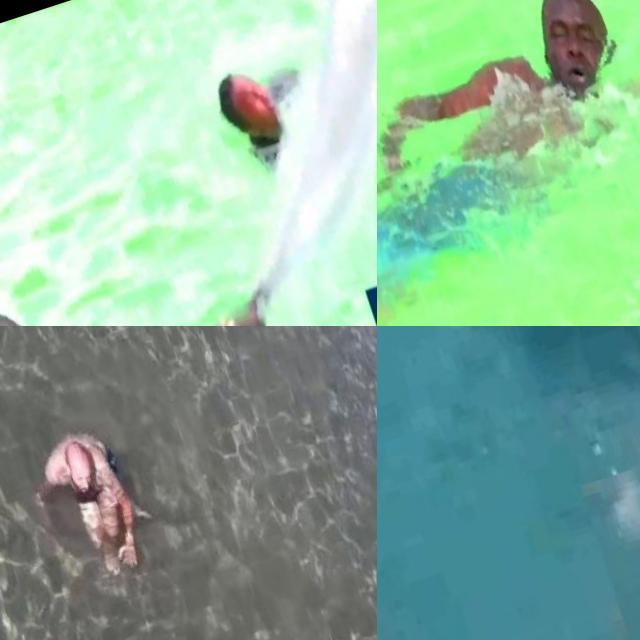drowning: (198, 40, 328, 185), (580, 448, 640, 640)
swimming: (377, 0, 640, 282), (21, 418, 166, 592)
